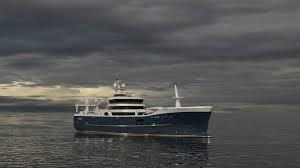Ship: (75, 81, 214, 138)
